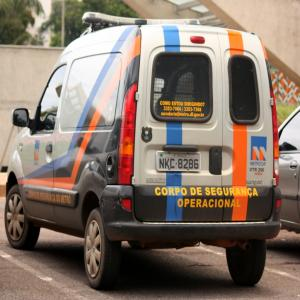Vehicle-registration-plate: (157, 152, 202, 173)
